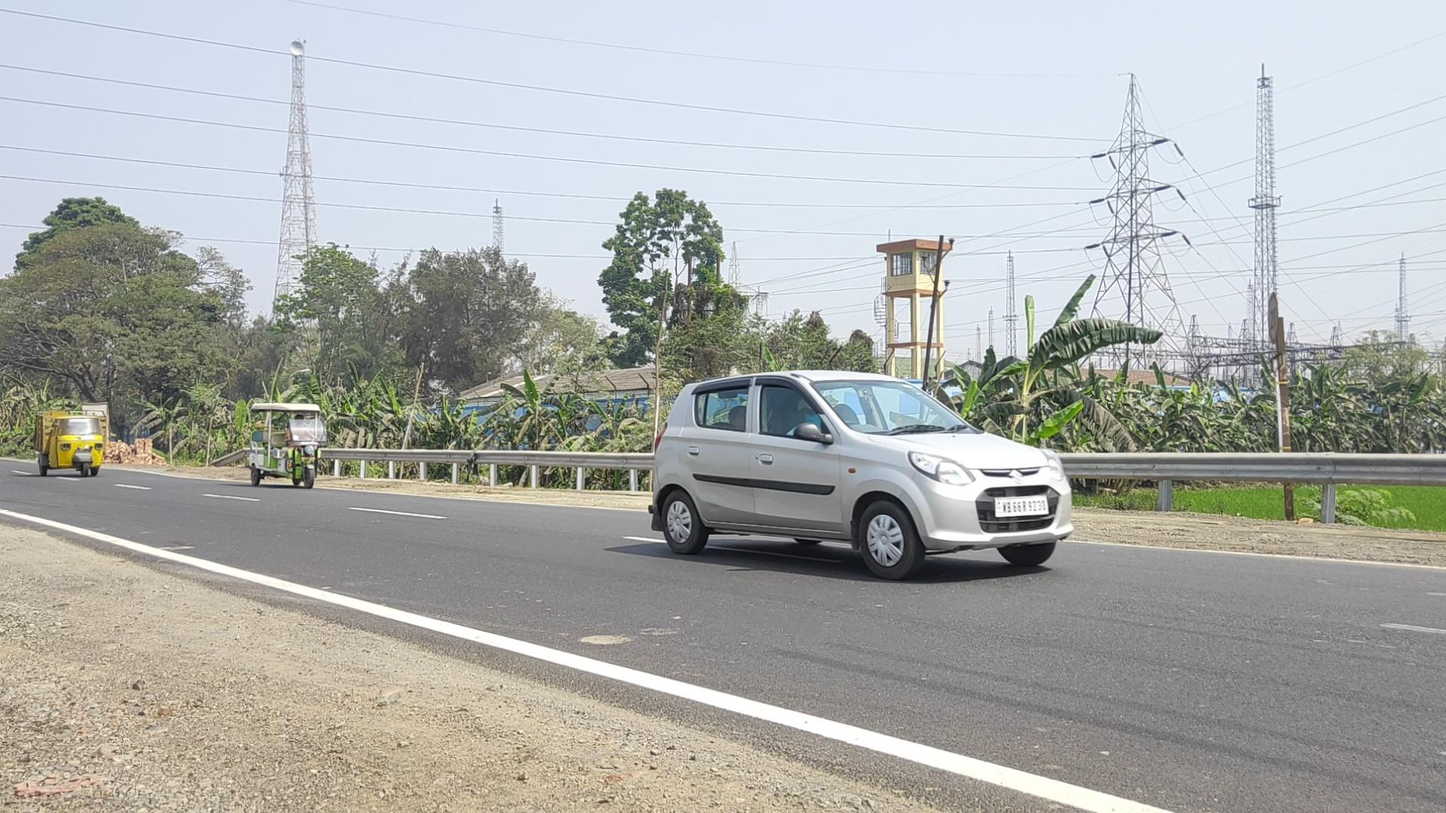Auto: (249, 403, 327, 490)
car: (648, 370, 1073, 580)
van: (34, 410, 107, 477)
